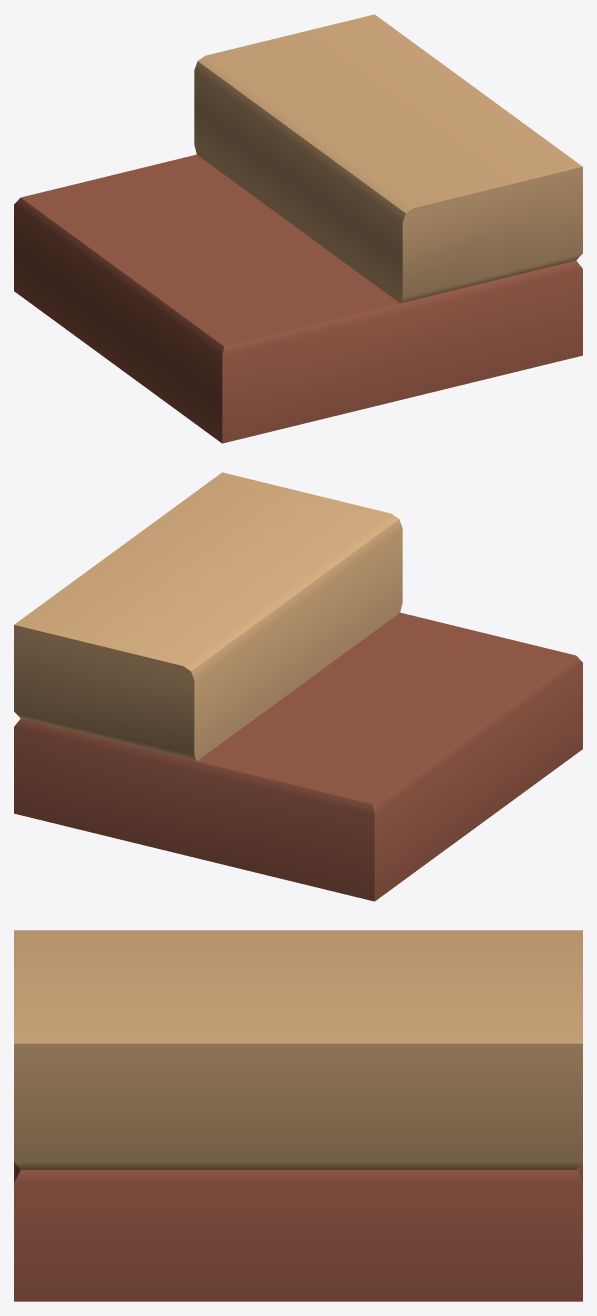
The model's file is kaykit-square-sand-waterstraight-empty.glb.
The picture shows the model from 3 angles, top to bottom: view 1: azimuth 30°, elevation 25°; view 2: azimuth 150°, elevation 25°; view 3: azimuth 270°, elevation 25°; orthographic projection. The views are drawn at different scales.
Parts seen in each view (by area): view 1: square_sand_waterStraight_empty; view 2: square_sand_waterStraight_empty; view 3: square_sand_waterStraight_empty.
Part boxes in pixels (x1,y1,x2,y2): square_sand_waterStraight_empty: [14, 14, 582, 443]; square_sand_waterStraight_empty: [14, 472, 582, 901]; square_sand_waterStraight_empty: [14, 930, 582, 1301].
Bounding box in the file's own units: 2 × 1 × 2.
